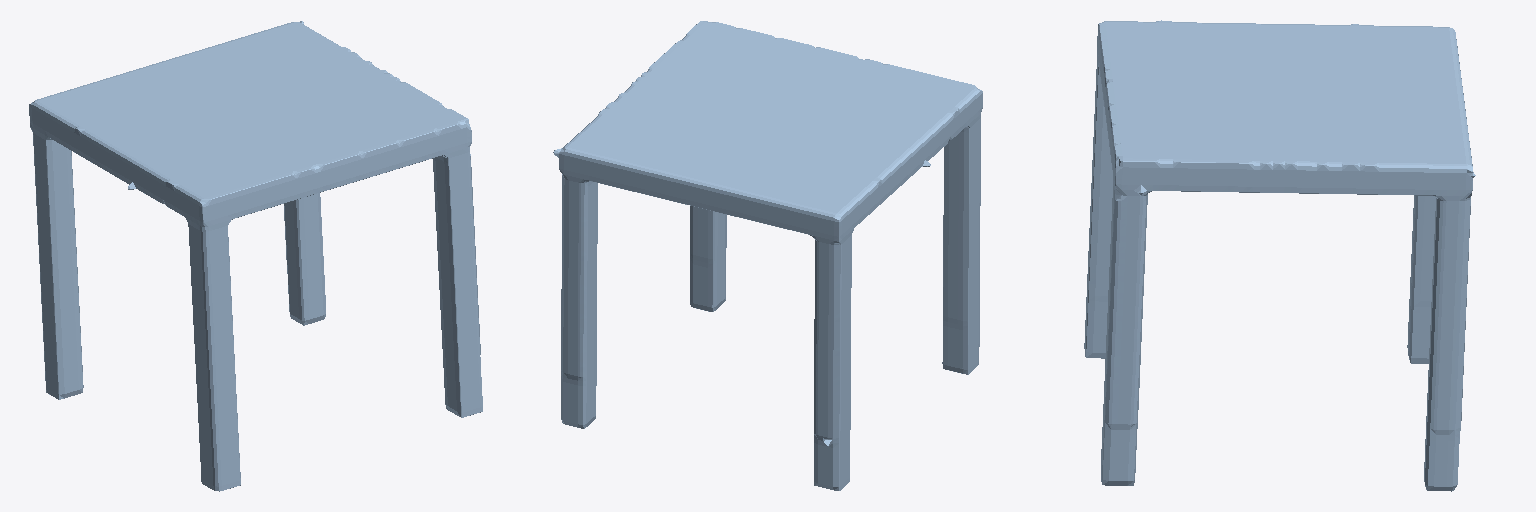
URDF robot description (smalltable.urdf):
<?xml version="1.0" ?>
<robot name="smalltable.urdf">
  <dynamics damping="0.5" friction="0.9"/>
  <link name="baseLink">
    <contact>
      <lateral_friction value="0.9"/>
      <rolling_friction value="0.5"/>
      <stiffness value="30000"/>
      <damping value="1000"/>
    </contact>
    <visual>
      <origin rpy="0 0 0" xyz="0 0 0"/>
      <geometry>
        <mesh filename="meshes/smalltable/smalltable.stl" scale="1.0 1.0 1.0"/>
      </geometry>
       <material name="mat">
        <color rgba="0.7 0.8 0.9 1"/>
      </material>
    </visual>
    <collision>
      <origin rpy="0 0 0" xyz="0 0 0"/>
      <geometry>
	 	<mesh filename="meshes/smalltable/smalltable.stl" scale="1.0 1.0 1.0"/>
      </geometry>
    </collision>
  </link>
</robot>

--- Render facts (derived) ---
The picture shows the robot from 3 angles, left to right: view 1: azimuth 30°, elevation 25°; view 2: azimuth 150°, elevation 25°; view 3: azimuth 270°, elevation 25°; orthographic projection.
Robot: smalltable.urdf — 1 links, 0 joints (none); root link baseLink; default pose: all joints at 0.
Visible links, largest first — view 1: baseLink; view 2: baseLink; view 3: baseLink.
Boxes of the visible links, x1,y1,x2,y2 form: baseLink: (29, 21, 482, 491); baseLink: (553, 21, 982, 490); baseLink: (1084, 20, 1475, 491).
Bounding box of the posed robot: 0.3758 × 0.3827 × 0.3712 m (x, y, z).
1 mesh visuals loaded from 1 distinct referenced files (1 binary STL).
